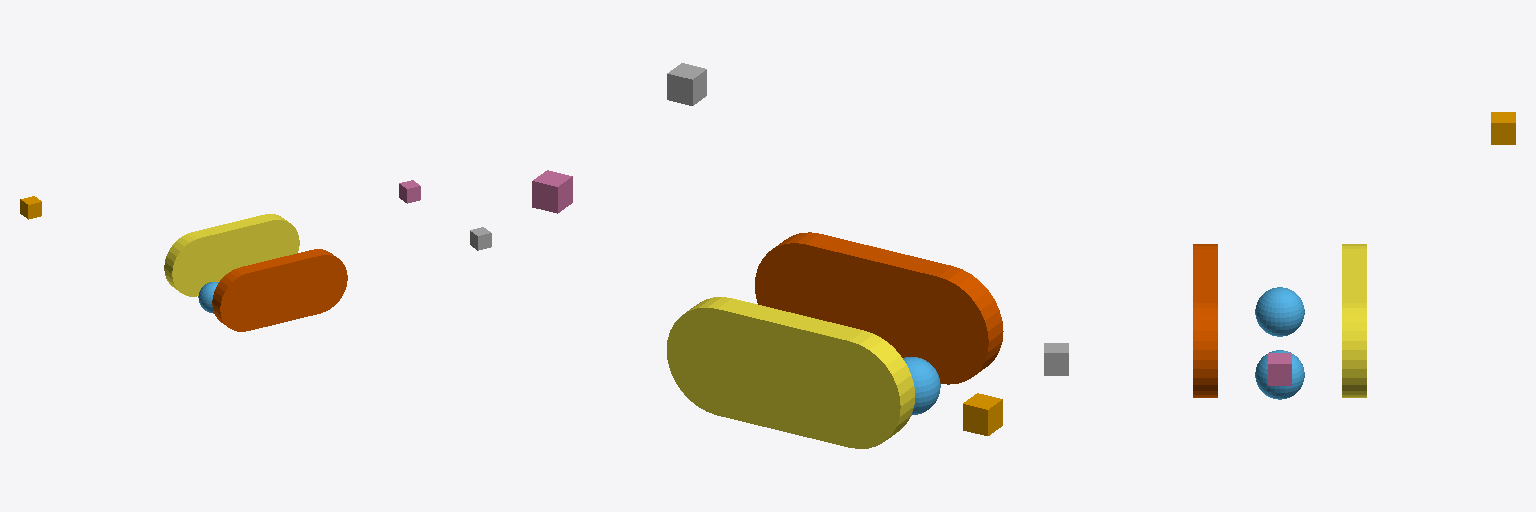
The robot description file, URDF, robot "diffbot_amr":
<?xml version="1.0" ?>
<!-- =================================================================================== -->
<!-- |    This document was autogenerated by xacro from diffbot.urdf.xacro             | -->
<!-- |    EDITING THIS FILE BY HAND IS NOT RECOMMENDED                                 | -->
<!-- =================================================================================== -->
<robot name="diffbot_amr">
  <!-- diff_drive controller -->
  <gazebo>
    <plugin filename="libgazebo_ros_diff_drive.so" name="diff_drive">
      <ros>
        <namespace>/diffbot_amr</namespace>
      </ros>
      <!-- wheels -->
      <left_joint>front_left_wheel_joint</left_joint>
      <right_joint>front_right_wheel_joint</right_joint>
      <!-- kinematics -->
      <wheel_separation>0.4</wheel_separation>
      <wheel_diameter>0.2</wheel_diameter>
      <!-- limits -->
      <max_wheel_torque>20</max_wheel_torque>
      <max_wheel_acceleration>1.0</max_wheel_acceleration>
      <!-- output -->
      <publish_odom>true</publish_odom>
      <publish_odom_tf>true</publish_odom_tf>
      <publish_wheel_tf>true</publish_wheel_tf>
      <odometry_frame>odom</odometry_frame>
      <robot_base_frame>robot_footprint</robot_base_frame>
    </plugin>
  </gazebo>
  <!-- camera -->
  <gazebo reference="camera">
    <sensor name="camera_sensor" type="camera">
      <update_rate>30.0</update_rate>
      <always_on>1</always_on>
      <camera name="camera">
        <horizontal_fov>1.3962634</horizontal_fov>
        <image>
          <width>800</width>
          <height>800</height>
          <format>R8G8B8</format>
        </image>
        <clip>
          <near>0.02</near>
          <far>300</far>
        </clip>
        <distortion>
          <k1>0.0</k1>
          <k2>0.0</k2>
          <k3>0.0</k3>
          <p1>0.0</p1>
          <p2>0.0</p2>
          <center>0.5 0.5</center>
        </distortion>
      </camera>
      <plugin filename="libgazebo_ros_camera.so" name="camera_controller">
        <ros>
          <namespace>/diffbot_amr</namespace>
          <argument>camera/image_raw:=/diffbot_amr/camera/image</argument>
          <argument>camera/camera_info:=/diffbot_amr/camera/image/camera_info</argument>
        </ros>
        <camera_name>camera_sensor</camera_name>
        <frame_name>robot_footprint</frame_name>
        <hack_baseline>0.07</hack_baseline>
      </plugin>
    </sensor>
  </gazebo>
  <!-- hokuyo -->
  <gazebo reference="hokuyo">
    <sensor name="head_hokuyo_sensor" type="ray">
      <pose>0 0 0 0 0 0</pose>
      <visualize>true</visualize>
      <update_rate>40</update_rate>
      <ray>
        <scan>
          <horizontal>
            <samples>720</samples>
            <resolution>1</resolution>
            <min_angle>-3.141592</min_angle>
            <max_angle>1.570796</max_angle>
          </horizontal>
        </scan>
        <range>
          <min>0.10</min>
          <max>30.0</max>
          <resolution>0.01</resolution>
        </range>
        <noise>
          <type>gaussian</type>
          <!-- Noise parameters based on published spec for Hokuyo laser
                achieving "+-30mm" accuracy at range < 10m.  A mean of 0.0m and
                stddev of 0.01m will put 99.7% of samples within 0.03m of the true
                reading. -->
          <mean>0.0</mean>
          <stddev>0.01</stddev>
        </noise>
      </ray>
      <update_rate>30</update_rate>
      <plugin filename="libgazebo_ros_ray_sensor.so" name="gazebo_ros_head_hokuyo_controller">
        <ros>
          <namespace>/diffbot_amr</namespace>
          <argument>~/out:=scan</argument>
        </ros>
        <output_type>sensor_msgs/LaserScan</output_type>
      </plugin>
    </sensor>
  </gazebo>
  <gazebo reference="hokuyo2">
    <sensor name="tail_hokuyo_sensor" type="ray">
      <pose>0 0 0 0 0 0</pose>
      <visualize>true</visualize>
      <update_rate>40</update_rate>
      <ray>
        <scan>
          <horizontal>
            <samples>720</samples>
            <resolution>1</resolution>
            <min_angle>-3.141592</min_angle>
            <max_angle>1.570796</max_angle>
          </horizontal>
        </scan>
        <range>
          <min>0.10</min>
          <max>30.0</max>
          <resolution>0.01</resolution>
        </range>
        <noise>
          <type>gaussian</type>
          <!-- Noise parameters based on published spec for Hokuyo laser
                achieving "+-30mm" accuracy at range < 10m.  A mean of 0.0m and
                stddev of 0.01m will put 99.7% of samples within 0.03m of the true
                reading. -->
          <mean>0.0</mean>
          <stddev>0.01</stddev>
        </noise>
      </ray>
      <update_rate>30</update_rate>
      <plugin filename="libgazebo_ros_ray_sensor.so" name="gazebo_ros_tail_hokuyo_controller">
        <ros>
          <namespace>/diffbot_amr</namespace>
          <argument>~/out:=scan</argument>
        </ros>
        <output_type>sensor_msgs/LaserScan</output_type>
      </plugin>
    </sensor>
  </gazebo>
  <link name="robot_footprint"/>
  <joint name="robot_footprint_joint" type="fixed">
    <origin rpy="0 0 0" xyz="0 0 0"/>
    <parent link="robot_footprint"/>
    <child link="chassis"/>
  </joint>
  <link name="chassis">
    <pose>0 0 0.1 0 0 0</pose>
    <inertial>
      <mass value="15.0"/>
      <origin rpy=" 0 0 0" xyz="0.0 0 0"/>
      <inertia ixx="0.1" ixy="0" ixz="0" iyy="0.1" iyz="0" izz="0.1"/>
    </inertial>
    <collision name="collision">
      <origin rpy=" 0 0 0" xyz="0 0 0"/>
      <geometry>
        <box size=".4 .2 .1"/>
      </geometry>
    </collision>
    <visual name="chassis_visual">
      <origin rpy=" 0 0 -1.570796" xyz="0 0 0.12"/>
      <geometry>
        <!-- <box size=".4 .2 .1"/> -->
        <!-- <mesh filename="$(find gcamp_gazebo)/meshes/base_link.STL" /> -->
        <mesh filename="[local-path]/git/camel-amr-projects/src/amr-gazebo-pkg/meshes/base_link.STL"/>
      </geometry>
    </visual>
    <!-- <visual name="chassis_middle_visual">
      <origin rpy=" 0 0 0" xyz="0 0 0.1"/>
      <geometry>
        <box size="1.1 .2 .1"/>
      </geometry>
    </visual> -->
    <collision name="chassis_middle_collision">
      <origin rpy=" 0 0 0" xyz="0 0 0.1"/>
      <geometry>
        <box size="1.1 0.2 0.1"/>
      </geometry>
    </collision>
    <collision name="chassis_top_collision">
      <origin rpy=" 0 0 0" xyz="0 0 0.3"/>
      <geometry>
        <box size="1.1 .85 0.2"/>
      </geometry>
    </collision>
    <!-- <visual name="chassis_top_visual">
      <origin rpy=" 0 0 0" xyz="0 0 0.25"/>
      <geometry>
        <box size="1.1 .85 0.2"/>
      </geometry>
    </visual> -->
    <!-- <visual name="chassis_left_visual">
      <origin rpy=" 0 0 0" xyz="0 0.325 0.1"/>
      <geometry>
        <box size="1.1 .2 .1"/>
      </geometry>
    </visual> -->
    <!-- <visual name="chassis_right_visual">
      <origin rpy=" 0 0 0" xyz="0 -0.325 0.1"/>
      <geometry>
        <box size="1.1 .2 .1"/>
      </geometry>
    </visual> -->
    <collision name="chassis_left_collision">
      <origin rpy=" 0 0 0" xyz="0 0.325 0.1"/>
      <geometry>
        <box size="1.1 .2 .1"/>
      </geometry>
    </collision>
    <collision name="chassis_right_collision">
      <origin rpy=" 0 0 0" xyz="0 -0.325 0.1"/>
      <geometry>
        <box size="1.1 .2 .1"/>
      </geometry>
    </collision>
    <collision name="back_caster_collision">
      <origin rpy=" 0 0 0" xyz="-0.15 0 -0.05"/>
      <geometry>
        <sphere radius="0.0499"/>
      </geometry>
    </collision>
    <visual name="back_caster_visual">
      <origin rpy=" 0 0 0" xyz="-0.15 0 -0.05"/>
      <geometry>
        <sphere radius="0.05"/>
      </geometry>
    </visual>
    <collision name="front_caster_collision">
      <origin rpy=" 0 0 0" xyz="0.15 0 -0.05"/>
      <geometry>
        <sphere radius="0.0499"/>
      </geometry>
    </collision>
    <visual name="front_caster_visual">
      <origin rpy=" 0 0 0" xyz="0.15 0 -0.05"/>
      <geometry>
        <sphere radius="0.05"/>
      </geometry>
    </visual>
  </link>
  <link name="front_left_wheel">
    <inertial>
      <mass value="8.0"/>
      <origin rpy=" 0 1.5707 1.5707" xyz="0.0 0 0"/>
      <inertia ixx="0.1" ixy="0" ixz="0" iyy="0.1" iyz="0" izz="0.1"/>
    </inertial>
    <collision>
      <origin rpy=" 0 1.5707 1.5707" xyz="0.0 0 0"/>
      <geometry>
        <cylinder length="0.05" radius="0.1"/>
      </geometry>
    </collision>
  </link>
  <link name="left_track">
    <visual name="left_track_visual">
      <origin rpy="1.5708 0 1.5708" xyz="0 0 0"/>
      <geometry>
        <box size="0.05 0.2 0.26"/>
      </geometry>
    </visual>
    <visual name="left_track_visual_1">
      <origin rpy="1.5708 -0 0" xyz="0.13 0 0"/>
      <geometry>
        <cylinder length="0.05" radius="0.1"/>
      </geometry>
    </visual>
    <visual name="left_track_visual_2">
      <origin rpy="1.5708 -0 0" xyz="-0.13 0 0"/>
      <geometry>
        <cylinder length="0.05" radius="0.1"/>
      </geometry>
    </visual>
  </link>
  <link name="front_right_wheel">
    <inertial>
      <mass value="8.0"/>
      <origin rpy=" 0 1.5707 1.5707" xyz="0.0 0 0"/>
      <inertia ixx="0.1" ixy="0" ixz="0" iyy="0.1" iyz="0" izz="0.1"/>
    </inertial>
    <collision>
      <origin rpy=" 0 1.5707 1.5707" xyz="0.0 0 0"/>
      <geometry>
        <cylinder length="0.05" radius="0.1"/>
      </geometry>
    </collision>
  </link>
  <!-- <link name="back_right_wheel"> -->
  <!-- Dummy -->
  <!-- </link> -->
  <link name="right_track">
    <visual name="right_track_visual">
      <origin rpy="1.5708 0 1.5708" xyz="0 0 0"/>
      <geometry>
        <box size="0.05 0.2 0.26"/>
      </geometry>
    </visual>
    <visual name="right_track_visual_1">
      <origin rpy="1.5708 -0 0" xyz="0.13 0 0"/>
      <geometry>
        <cylinder length="0.05" radius="0.1"/>
      </geometry>
    </visual>
    <visual name="right_track_visual_2">
      <origin rpy="1.5708 -0 0" xyz="-0.13 0 0"/>
      <geometry>
        <cylinder length="0.05" radius="0.1"/>
      </geometry>
    </visual>
  </link>
  <link name="camera">
    <inertial>
      <mass value="0.1"/>
      <origin rpy=" 0 0 0" xyz="0.05 0.05 0.05"/>
      <inertia ixx="1e-6" ixy="0" ixz="0" iyy="1e-6" iyz="0" izz="1e-6"/>
    </inertial>
    <visual name="camera_visual">
      <origin rpy="0 0 0" xyz="0 0 0.2"/>
      <geometry>
        <box size="0.05 0.05 0.05"/>
      </geometry>
    </visual>
    <collision name="camera_colision">
      <origin rpy="0 0 0" xyz="0 0 0"/>
      <geometry>
        <box size="0.05 0.05 0.05"/>
      </geometry>
    </collision>
  </link>
  <link name="hokuyo">
    <inertial>
      <mass value="1e-5"/>
      <origin rpy=" 0 0 0" xyz="0 0 0"/>
      <inertia ixx="1e-6" ixy="0" ixz="0" iyy="1e-6" iyz="0" izz="1e-6"/>
    </inertial>
    <visual name="hokuyo_visual">
      <origin rpy="0 0 0" xyz="0 0 0"/>
      <geometry>
        <box size="0.05 0.05 0.05"/>
      </geometry>
    </visual>
    <collision name="hokuyo_colision">
      <origin rpy="0 0 0" xyz="0 0 0"/>
      <geometry>
        <box size="0.05 0.05 0.05"/>
      </geometry>
    </collision>
  </link>
  <link name="hokuyo2">
    <inertial>
      <mass value="1e-5"/>
      <origin rpy=" 0 0 0" xyz="0 0 0"/>
      <inertia ixx="1e-6" ixy="0" ixz="0" iyy="1e-6" iyz="0" izz="1e-6"/>
    </inertial>
    <visual name="hokuyo_visual">
      <origin rpy="0 0 0" xyz="0 0 0"/>
      <geometry>
        <box size="0.05 0.05 0.05"/>
      </geometry>
    </visual>
    <collision name="hokuyo_colision">
      <origin rpy="0 0 0" xyz="0 0 0"/>
      <geometry>
        <box size="0.05 0.05 0.05"/>
      </geometry>
    </collision>
  </link>
  <joint name="front_left_wheel_joint" type="continuous">
    <origin rpy="0 0 0" xyz="0.0 0.15 0"/>
    <child link="front_left_wheel"/>
    <parent link="chassis"/>
    <axis rpy="0 0 0" xyz="0 1 0"/>
    <limit effort="10000" velocity="1000"/>
    <dynamics damping="1.0" friction="1.0"/>
  </joint>
  <joint name="front_right_wheel_joint" type="continuous">
    <origin rpy="0 0 0" xyz="0.0 -0.15 0"/>
    <child link="front_right_wheel"/>
    <parent link="chassis"/>
    <axis rpy="0 0 0" xyz="0 1 0"/>
    <limit effort="10000" velocity="1000"/>
    <dynamics damping="1.0" friction="1.0"/>
  </joint>
  <joint name="right_track_j" type="fixed">
    <origin rpy="0 0 0" xyz="0 -0.15 0"/>
    <child link="right_track"/>
    <parent link="chassis"/>
  </joint>
  <joint name="left_track_j" type="fixed">
    <origin rpy="0 0 0" xyz="0 0.15 0"/>
    <child link="left_track"/>
    <parent link="chassis"/>
  </joint>
  <joint name="camera_joint" type="fixed">
    <!-- <origin rpy="0 0 0" xyz="0.2 0 0.25"/> -->
    <origin rpy="0 0 0" xyz="0.555 0 -0.05"/>
    <child link="camera"/>
    <parent link="chassis"/>
    <axis rpy="0 0 0" xyz="0 1 0"/>
  </joint>
  <joint name="hokuyo_joint" type="fixed">
    <origin rpy="0 0 0" xyz="0.55 -0.45 0.171"/>
    <child link="hokuyo"/>
    <parent link="chassis"/>
    <axis rpy="0 0 0" xyz="0 1 0"/>
  </joint>
  <joint name="hokuyo2_joint" type="fixed">
    <origin rpy="0 0 3.141592" xyz="-0.55 0.45 0.171"/>
    <child link="hokuyo2"/>
    <parent link="chassis"/>
    <axis rpy="0 0 0" xyz="0 1 0"/>
  </joint>
  <gazebo reference="chassis">
    <material>Gazebo/White</material>
  </gazebo>
  <gazebo reference="left_track">
    <material>Gazebo/Black</material>
  </gazebo>
  <gazebo reference="right_track">
    <material>Gazebo/Black</material>
  </gazebo>
  <gazebo reference="camera">
    <material>Gazebo/Gray</material>
  </gazebo>
  <gazebo reference="hokuyo">
    <material>Gazebo/Black</material>
  </gazebo>
</robot>

--- What the picture shows (computed from the rendered views, not written in the file) ---
3 views of the same robot in one strip: view 1: azimuth 30°, elevation 25°; view 2: azimuth 150°, elevation 25°; view 3: azimuth 270°, elevation 25° (orthographic).
Robot: diffbot_amr — 9 links, 8 joints (2 continuous, 6 fixed); root link robot_footprint; default pose: all joints at 0.
Visible links, largest first — view 1: right_track, left_track; view 2: left_track, right_track, camera, hokuyo2, hokuyo, chassis; view 3: left_track, right_track, chassis, hokuyo, hokuyo2, camera.
Link boxes in pixels (x1,y1,x2,y2): right_track: [212, 249, 347, 331]; left_track: [164, 214, 299, 296]; left_track: [667, 297, 914, 448]; right_track: [755, 232, 1003, 384]; camera: [532, 170, 572, 213]; hokuyo2: [963, 393, 1002, 435]; hokuyo: [667, 63, 706, 105]; chassis: [903, 357, 940, 414]; left_track: [1342, 244, 1366, 397]; right_track: [1193, 244, 1217, 397]; chassis: [1255, 287, 1304, 399]; hokuyo: [1044, 343, 1068, 375]; hokuyo2: [1491, 112, 1515, 144]; camera: [1268, 353, 1291, 385].
Size in the robot's own frame: 1.16 by 0.95 by 0.296 metres.
Geometry: only primitive shapes (box / cylinder / sphere) drawn; not drawn: 1 mesh visual (reference in a form the renderer does not follow).
